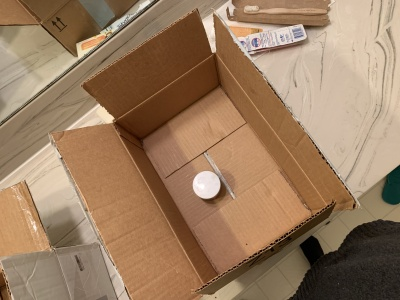innerbox: (132, 74, 286, 262)
outerbox: (80, 26, 322, 298)
product: (192, 171, 222, 200)
